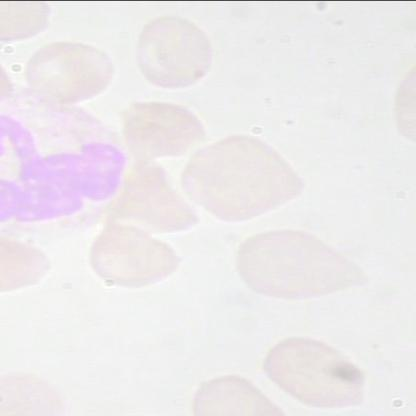RBC: (173, 125, 311, 223), (232, 225, 372, 310), (258, 332, 373, 412), (87, 221, 202, 300), (130, 4, 216, 96), (19, 35, 116, 108), (1, 225, 81, 306), (1, 358, 81, 416), (184, 373, 290, 415), (0, 0, 54, 44)
WBC: (1, 86, 131, 242)
